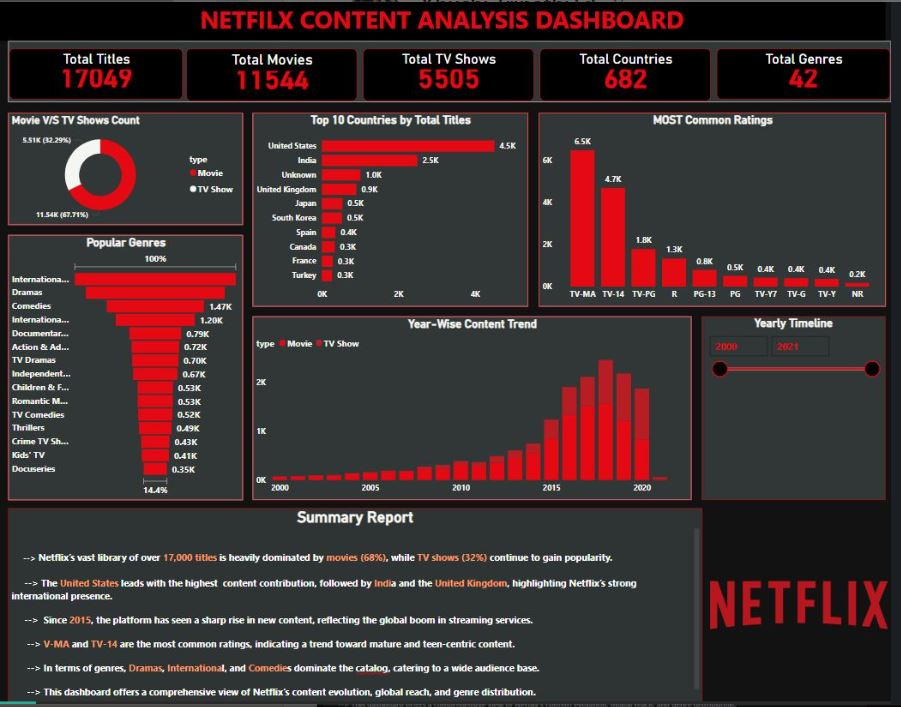

This screenshot's page, from the dashboard's own definition file:
{"tool":"powerbi","page":{"name":"Page 1","canvas":[1400,1100],"ordinal":0},"visuals":[{"type":"shape","box":[848,176,544,304],"z":0},{"type":"shape","box":[400,496,688,288],"z":1000},{"type":"shape","box":[400,176,432,304],"z":2000},{"type":"shape","box":[16,368,368,416],"z":3000},{"type":"shape","box":[16,176,368,176],"z":4000},{"type":"textbox","box":[0,0,1392,64],"z":5000},{"type":"shape","box":[16,64,1384,96],"z":6000},{"type":"card","title":"Total Titles","fields":{"Values":["CountNonNull(netflix_clean_data.show_id)"]},"box":[19,76,272,80],"z":7000},{"type":"card","title":"Total Movies","fields":{"Values":["netflix_clean_data.Total Movies"]},"box":[296,76,268,82],"z":8000},{"type":"card","title":"Total TV Shows","fields":{"Values":["netflix_clean_data.Total TV Shows"]},"box":[573,76,268,82],"z":9000},{"type":"card","title":"Total Countries","fields":{"Values":["netflix_clean_data.Total Countries"]},"box":[850,76,268,82],"z":10000},{"type":"card","title":"Total Genres","fields":{"Values":["netflix_clean_data.Total Genres"]},"box":[1127,76,272,80],"z":11000},{"type":"donutChart","title":"Movie V/S TV Shows Count","fields":{"Y":["CountNonNull(netflix_clean_data.show_id)"],"Category":["netflix_clean_data.type"]},"box":[16,176,368,176],"z":12000},{"type":"clusteredBarChart","title":"Top 10 Countries by Total Titles","fields":{"Category":["netflix_clean_data.country"],"Y":["CountNonNull(netflix_clean_data.show_id)"]},"box":[400,176,432,304],"z":13000},{"type":"columnChart","title":"Year-Wise Content Trend","fields":{"Category":["netflix_clean_data.release_year"],"Y":["CountNonNull(netflix_clean_data.show_id)"],"Series":["netflix_clean_data.type"]},"box":[400,496,688,288],"z":14000},{"type":"clusteredColumnChart","title":"MOST Common Ratings","fields":{"Category":["netflix_clean_data.rating"],"Y":["CountNonNull(netflix_clean_data.show_id)"]},"box":[848,176,544,304],"z":15000},{"type":"funnel","title":"Popular Genres","fields":{"Category":["netflix_clean_data.listed_in"],"Y":["CountNonNull(netflix_clean_data.show_id)"]},"box":[16,368,368,416],"z":16000},{"type":"shape","box":[1104,496,288,288],"z":17000},{"type":"slicer","title":"Yearly Timeline","fields":{"Values":["netflix_clean_data.Year_Added"]},"box":[1104,496,288,288],"z":18000},{"type":"shape","box":[16,796,1088,304],"z":19000},{"type":"textbox","title":"Summary Report","box":[16,796,1088,304],"z":20000},{"type":"image","box":[1112,796,288,304],"z":21000}]}

Visuals, with their boxes in screenshot pixels (x1, y1, x2, y2), scaled from the page's 1400x1100 canvas onto the 901x707 screenshot:
shape: bbox=[546, 113, 896, 309]
shape: bbox=[257, 319, 700, 504]
shape: bbox=[257, 113, 535, 309]
shape: bbox=[10, 237, 247, 504]
shape: bbox=[10, 113, 247, 226]
textbox: bbox=[0, 0, 896, 41]
shape: bbox=[10, 41, 900, 103]
"Total Titles" card: bbox=[12, 49, 187, 100]
"Total Movies" card: bbox=[190, 49, 363, 102]
"Total TV Shows" card: bbox=[369, 49, 541, 102]
"Total Countries" card: bbox=[547, 49, 720, 102]
"Total Genres" card: bbox=[725, 49, 900, 100]
"Movie V/S TV Shows Count" donutChart: bbox=[10, 113, 247, 226]
"Top 10 Countries by Total Titles" clusteredBarChart: bbox=[257, 113, 535, 309]
"Year-Wise Content Trend" columnChart: bbox=[257, 319, 700, 504]
"MOST Common Ratings" clusteredColumnChart: bbox=[546, 113, 896, 309]
"Popular Genres" funnel: bbox=[10, 237, 247, 504]
shape: bbox=[711, 319, 896, 504]
"Yearly Timeline" slicer: bbox=[711, 319, 896, 504]
shape: bbox=[10, 512, 711, 706]
"Summary Report" textbox: bbox=[10, 512, 711, 706]
image: bbox=[716, 512, 900, 706]
